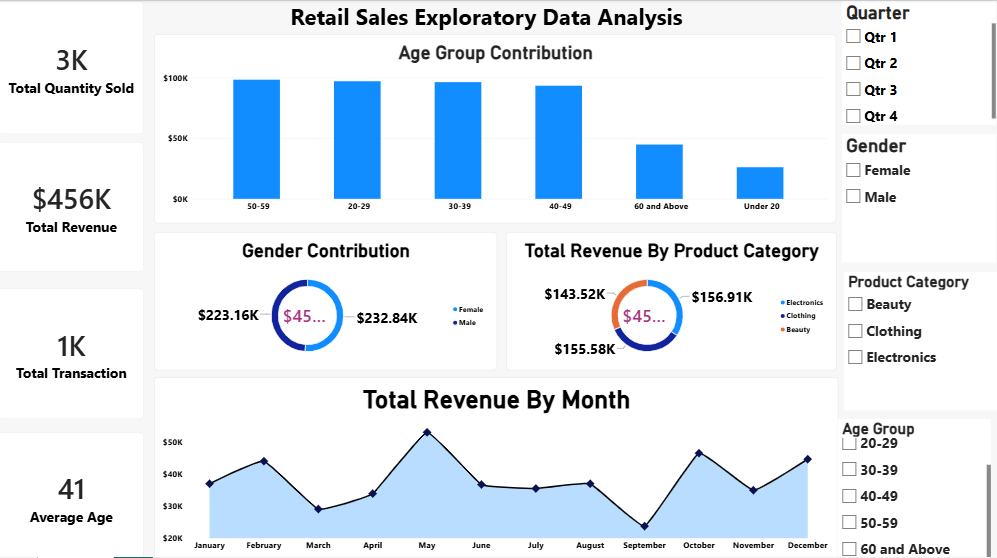

What the dashboard file says about the page in this screenshot:
{"tool":"powerbi","page":{"name":"Page 1","canvas":[1920,1080],"ordinal":0},"visuals":[{"type":"cardVisual","fields":{"Data":["retail_sales_dataset.Total Quantity Sold"]},"box":[0,0,280,256],"z":0},{"type":"cardVisual","fields":{"Data":["retail_sales_dataset.Total Revenue"]},"box":[0,272,280,250],"z":1},{"type":"cardVisual","fields":{"Data":["retail_sales_dataset.Total Transaction"]},"box":[0,552,280,252],"z":2},{"type":"cardVisual","fields":{"Data":["retail_sales_dataset.Average Age"]},"box":[0,828,280,250],"z":3},{"type":"lineChart","title":"Total Revenue By Month","fields":{"Category":["retail_sales_dataset.Date.Variation.Date Hierarchy.Month"],"Y":["retail_sales_dataset.Total Revenue"]},"box":[300,724,1316,356],"z":4},{"type":"donutChart","title":"Gender Contribution","fields":{"Category":["retail_sales_dataset.Gender"],"Y":["retail_sales_dataset.Total Revenue"]},"box":[300,444,660,266],"z":5},{"type":"donutChart","title":"Total Revenue By Product Category","fields":{"Category":["retail_sales_dataset.Product Category"],"Y":["retail_sales_dataset.Total Revenue"]},"box":[979.4,443.2,636,266],"z":6},{"type":"columnChart","title":"Age Group Contribution","fields":{"Category":["retail_sales_dataset.Age Group"],"Y":["retail_sales_dataset.Total Revenue"]},"box":[300,64,1312,364],"z":7},{"type":"slicer","fields":{"Values":["retail_sales_dataset.Date.Variation.Date Hierarchy.Month"]},"box":[1623.9,0,286.5,238.1],"z":8},{"type":"slicer","fields":{"Values":["retail_sales_dataset.Gender"]},"box":[1624,255.3,296,246.7],"z":9},{"type":"slicer","fields":{"Values":["retail_sales_dataset.Product Category"]},"box":[1625.8,522.6,293.9,266],"z":10},{"type":"slicer","fields":{"Values":["retail_sales_dataset.Age Group"]},"box":[1616,804,294,276],"z":11},{"type":"textbox","box":[512,0,856,64],"z":12}]}

Visuals, with their boxes in screenshot pixels (x1, y1, x2, y2), scaled from the page's 1920x1080 canvas onto the 997x558 screenshot:
cardVisual - retail_sales_dataset.Total Quantity Sold: pyautogui.locateOnScreen(0, 0, 145, 132)
cardVisual - retail_sales_dataset.Total Revenue: pyautogui.locateOnScreen(0, 141, 145, 270)
cardVisual - retail_sales_dataset.Total Transaction: pyautogui.locateOnScreen(0, 285, 145, 415)
cardVisual - retail_sales_dataset.Average Age: pyautogui.locateOnScreen(0, 428, 145, 557)
"Total Revenue By Month" lineChart: pyautogui.locateOnScreen(156, 374, 839, 557)
"Gender Contribution" donutChart: pyautogui.locateOnScreen(156, 229, 498, 367)
"Total Revenue By Product Category" donutChart: pyautogui.locateOnScreen(509, 229, 839, 366)
"Age Group Contribution" columnChart: pyautogui.locateOnScreen(156, 33, 837, 221)
slicer - retail_sales_dataset.Date.Variation.Date Hierarchy.Month: pyautogui.locateOnScreen(843, 0, 992, 123)
slicer - retail_sales_dataset.Gender: pyautogui.locateOnScreen(843, 132, 996, 259)
slicer - retail_sales_dataset.Product Category: pyautogui.locateOnScreen(844, 270, 996, 407)
slicer - retail_sales_dataset.Age Group: pyautogui.locateOnScreen(839, 415, 992, 557)
textbox: pyautogui.locateOnScreen(266, 0, 710, 33)
